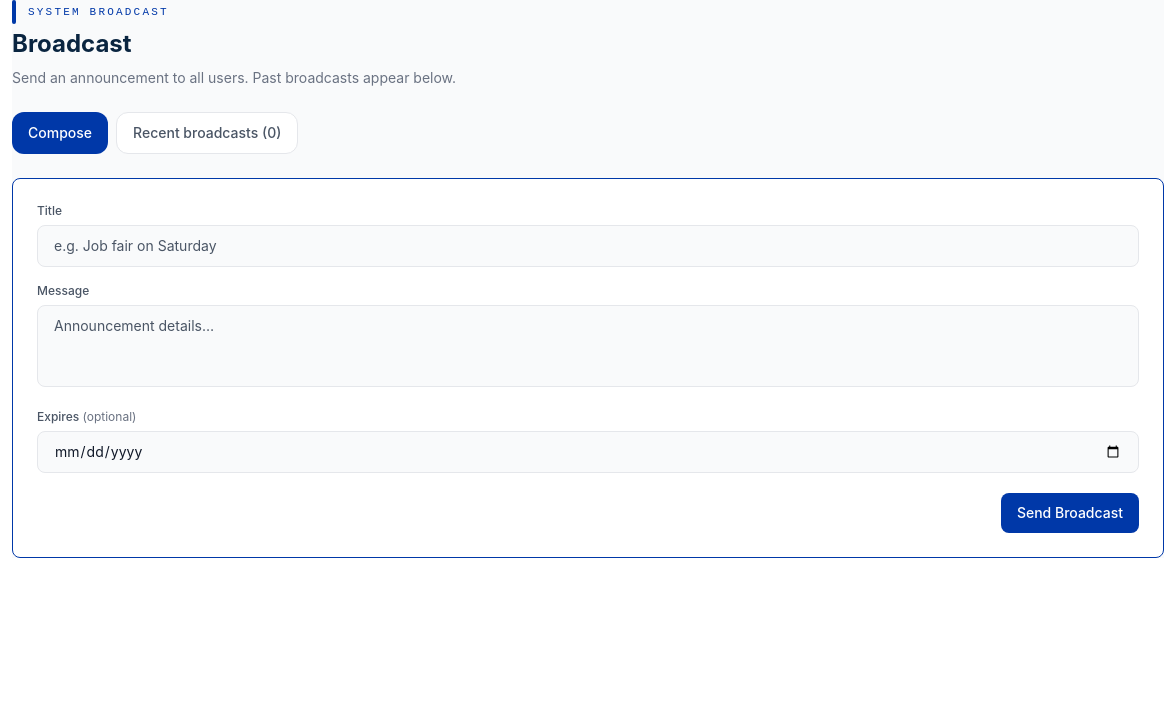
Broadcast tabs › shows the recent broadcasts empty state when the recent tab is selected
Click the button "Recent broadcasts (0)". click: {"x": 207, "y": 133}
box: [116, 112, 298, 154]
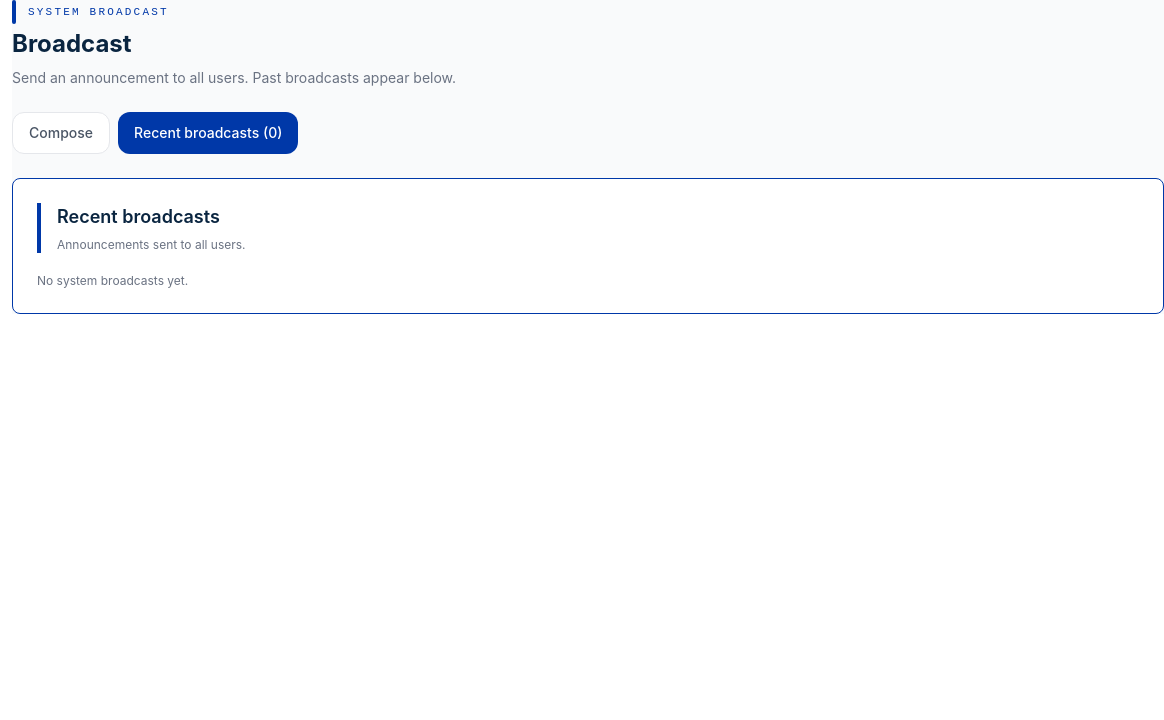
Result: the text "No system broadcasts yet." is shown at [37, 273, 188, 288]
